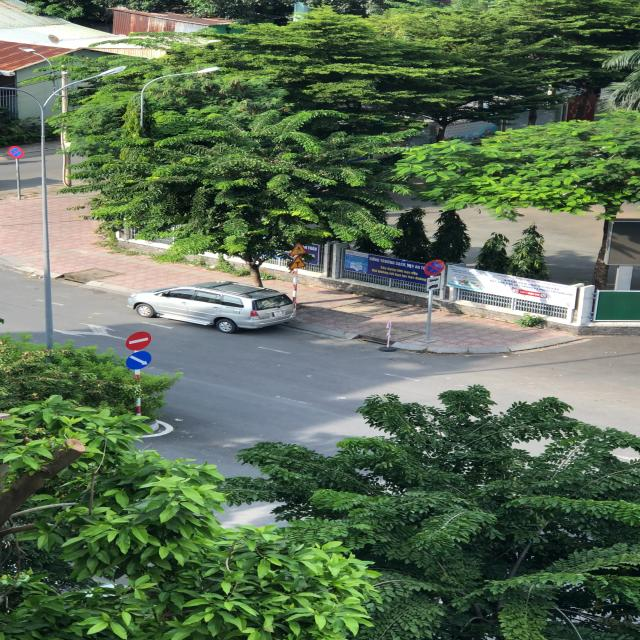Bien bao cam di nguoc chieu: (122, 330, 156, 349)
Bien bao cam dung xe va do xe: (422, 259, 448, 277)
Bien bao duong giao nhau: (286, 256, 310, 269)
Bien bao duong nguoi di bo cat ngang: (287, 242, 311, 255)
Bien bao huong phai di vong chuong ngai vat: (125, 350, 159, 371)
